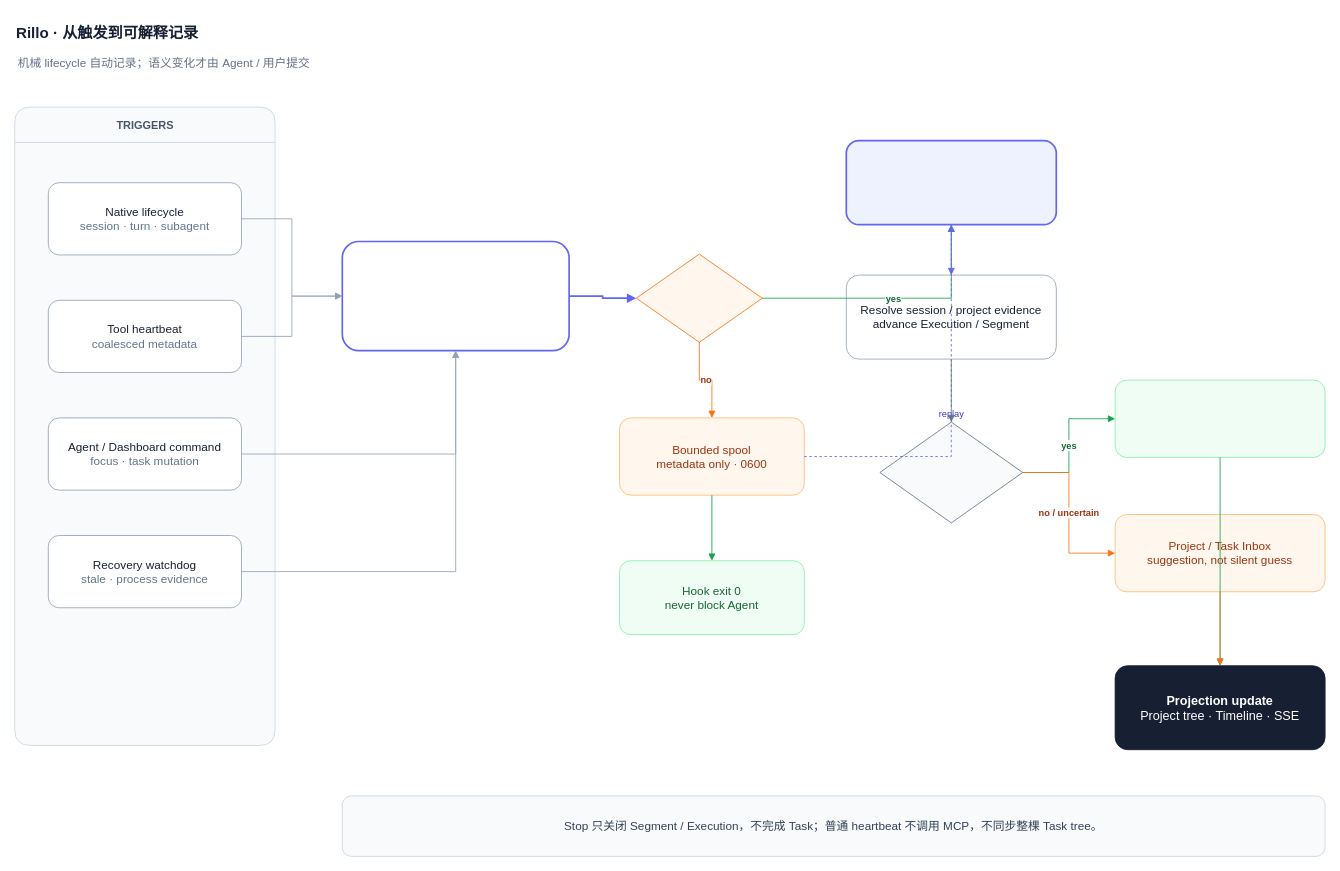
This 1340x871 diagram has some shape labels left out. The shapes that lost their labels are listed below. From the top down, each one's box as (x1, y1, x2, y2) in pixels, then its label:
(845, 139, 1057, 225): daemon ingest dedupe + append Observation
(341, 240, 570, 351): Source Adapter validate · redact · normalize host-neutral Event Envelope
(635, 253, 762, 342): daemon ready?
(1114, 379, 1325, 457): Accept Attribution record provenance
(879, 421, 1023, 523): Deterministic Attribution?
